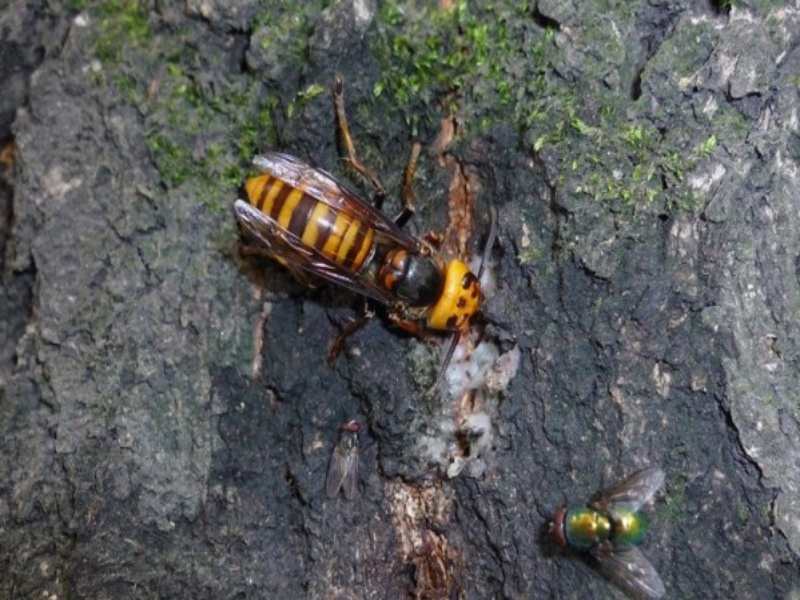asian_giant_hornet: (235, 102, 514, 381)
